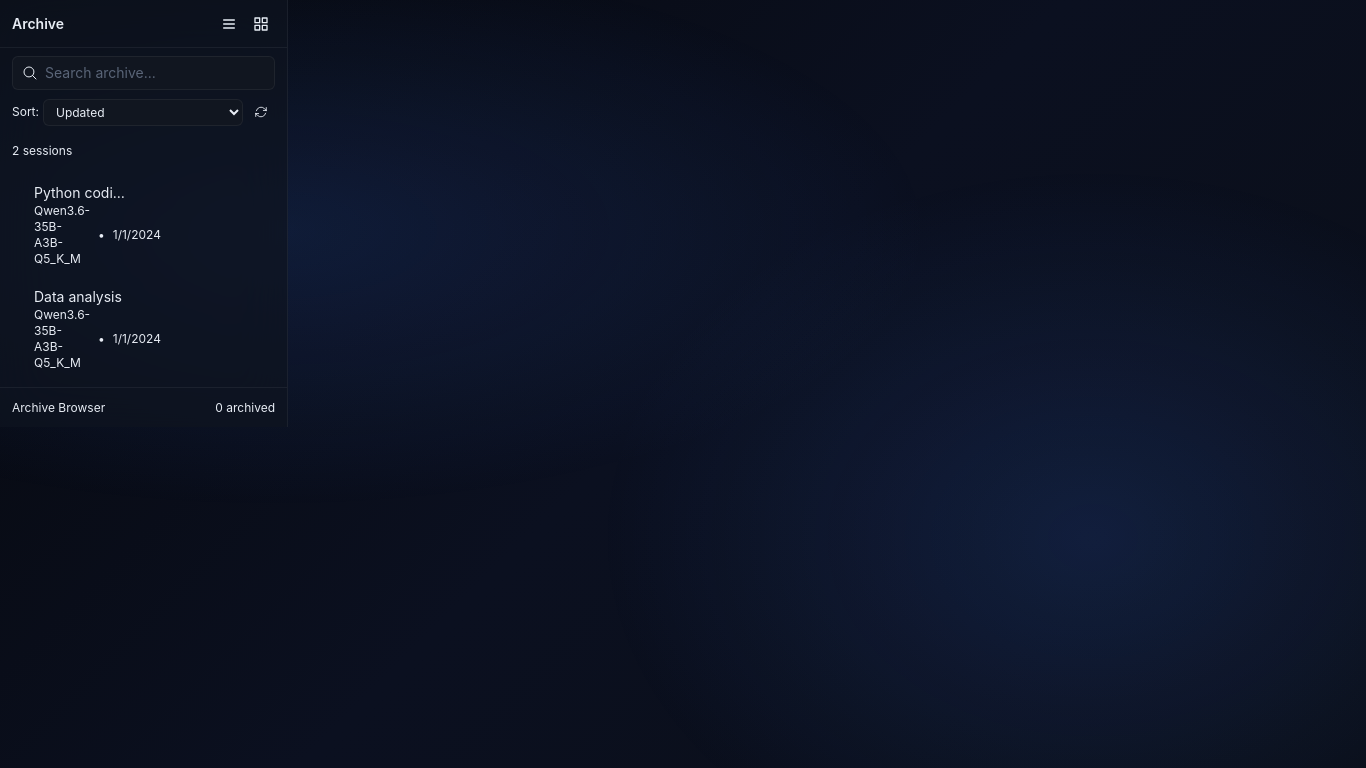
Test case: ArchiveBrowser › search › filters sessions by title
Type "python" into the field with placeholder "Search archive..." at (144, 73), box [12,56,275,90]
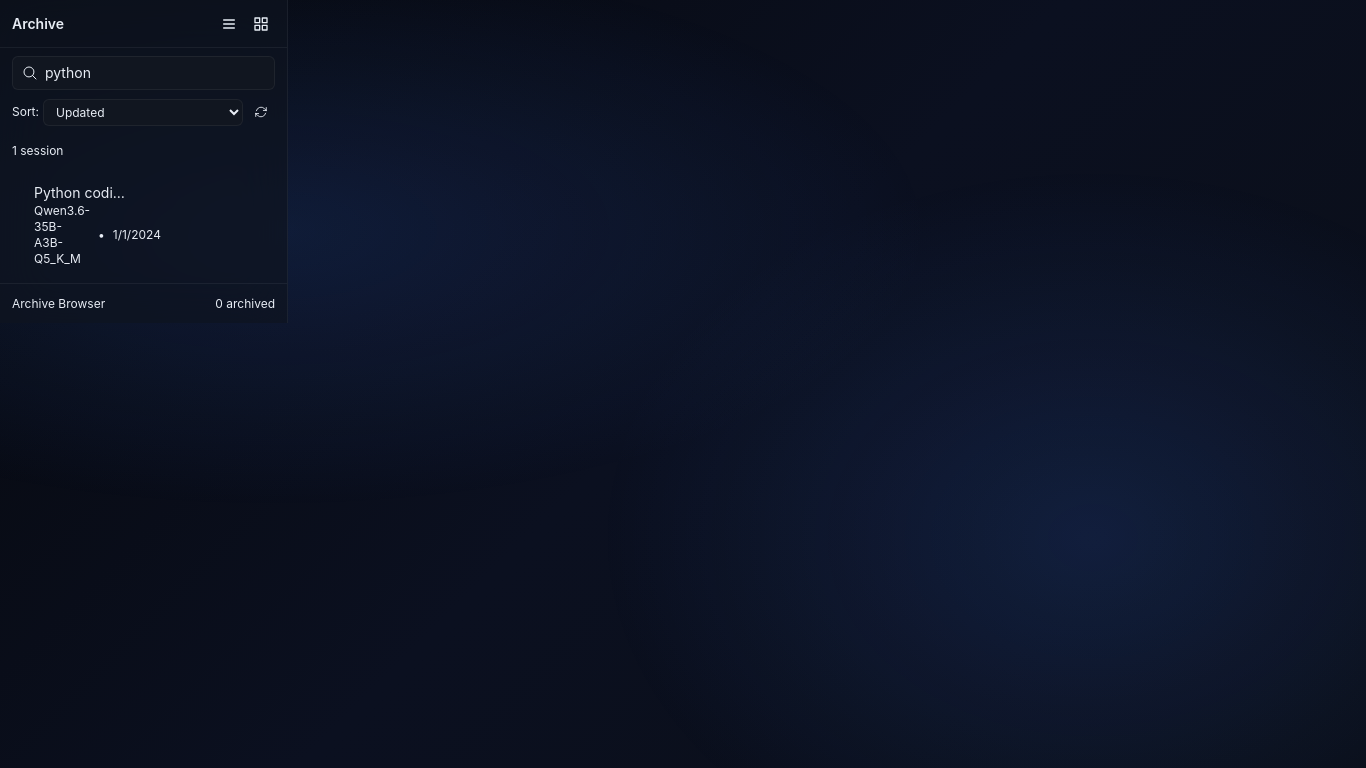
Expected: the text "Python coding session" is shown, [34,183,131,203]
Expected: the text "Data analysis" is gone
